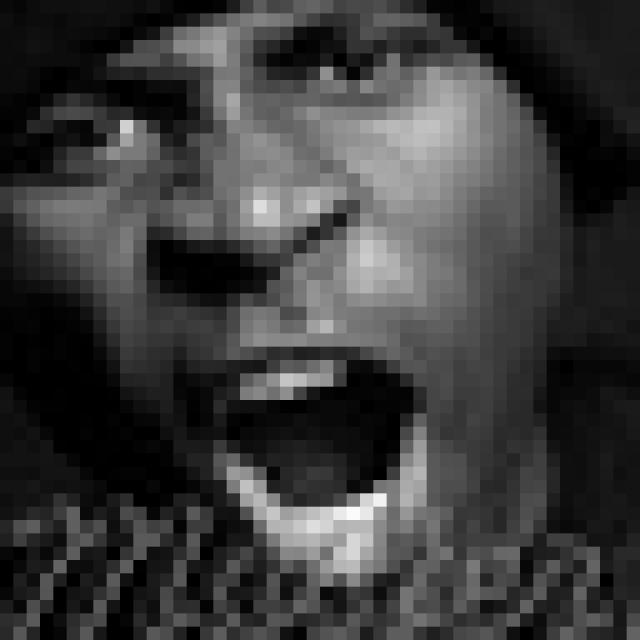angry: (11, 0, 452, 547)
